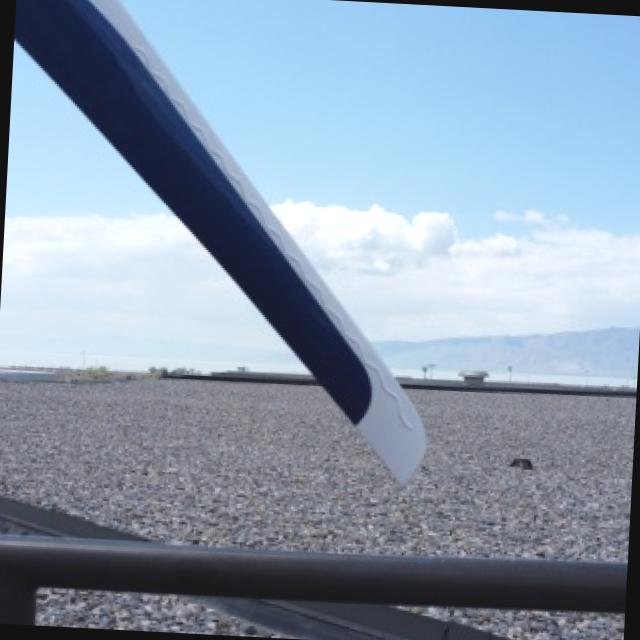healthy: (15, 0, 422, 478)
